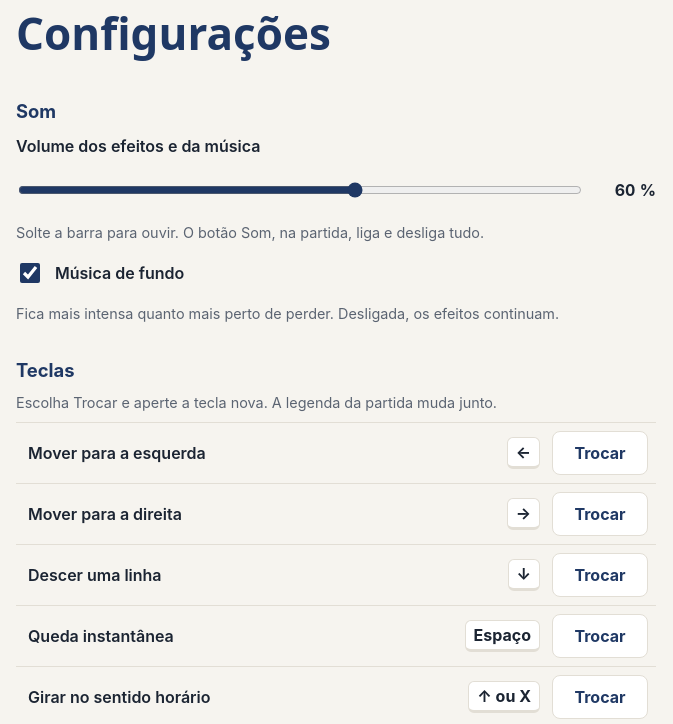
Test: Configuracoes › Tab e Shift não viram comando, e Esc cancela a troca
Click the button with aria-label "Trocar a tecla de Descer uma linha" at (600, 575), box [552,553,648,597]
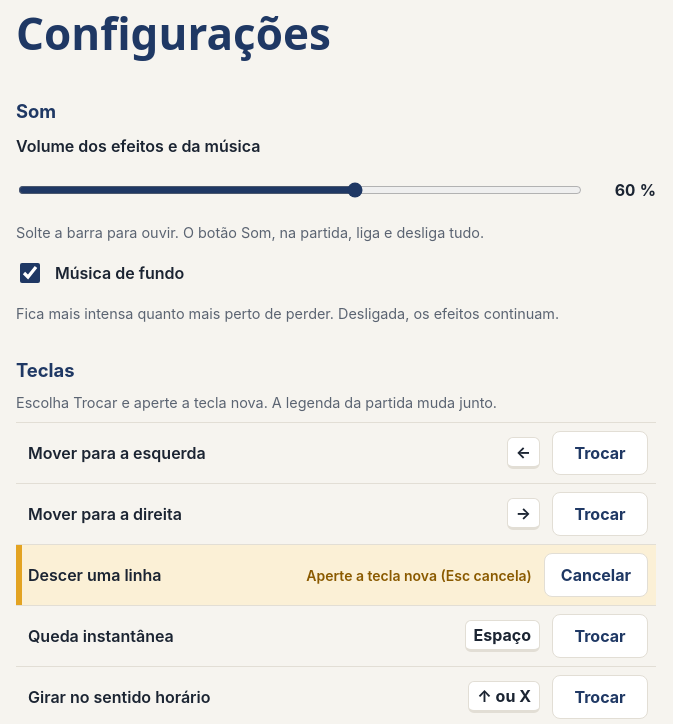
Press ShiftLeft
(page scrolled)
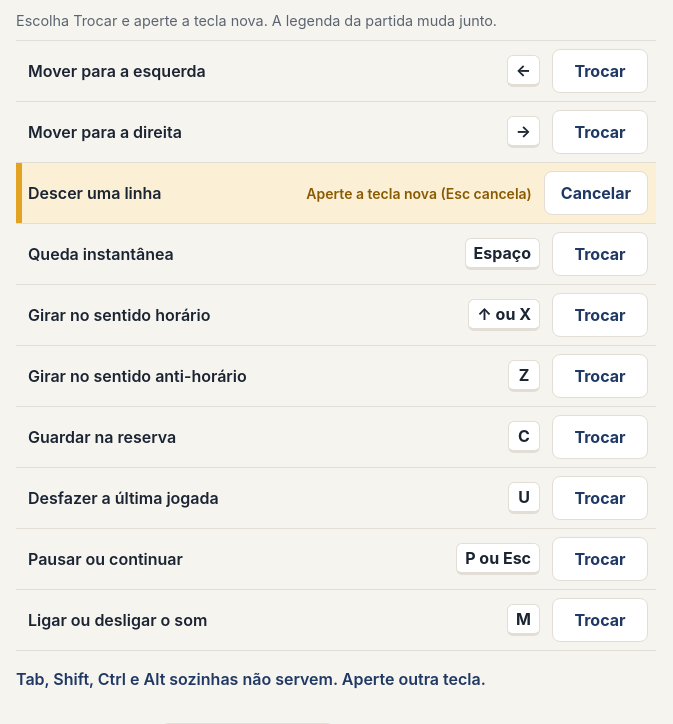
Expected: the text "Tab, Shift, Ctrl e Alt sozinhas não servem. Aperte outra tecla." is shown, [16,669,486,689]
Press Escape
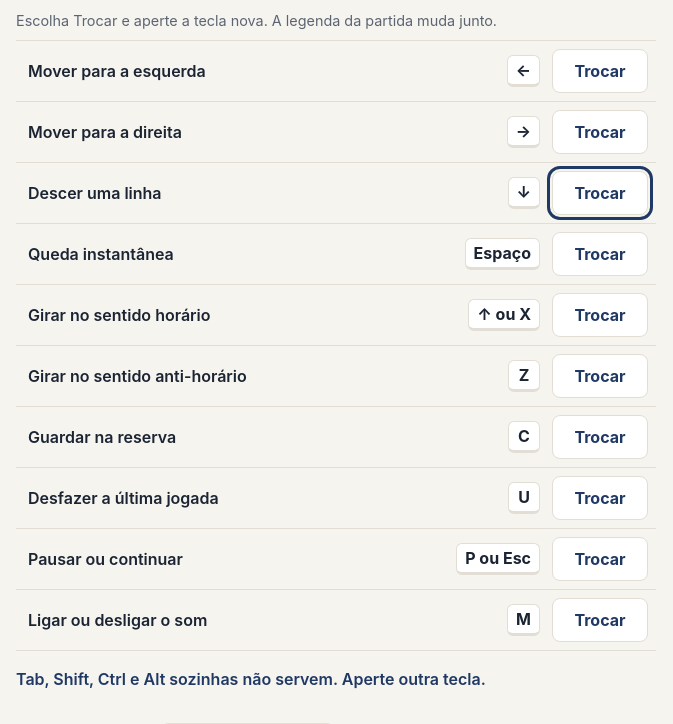
Expected: the text "Aperte a tecla nova (Esc cancela)" is gone
